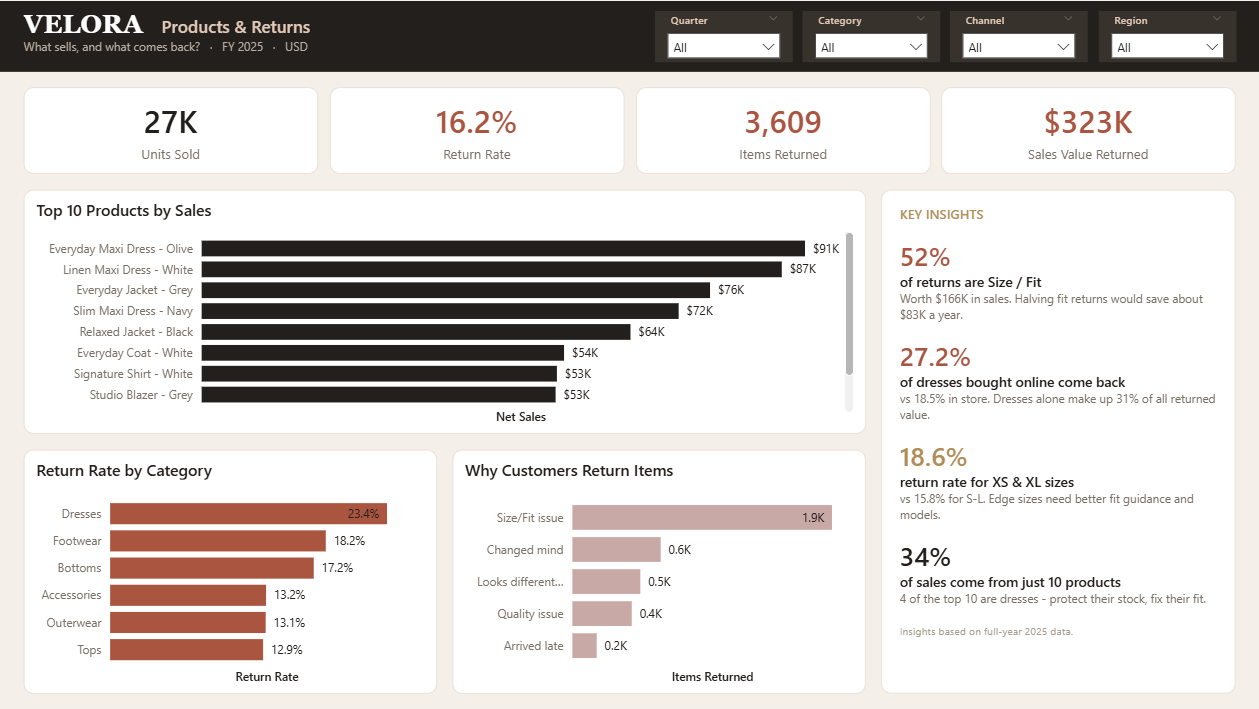

Layout of this report page (visuals, bound fields, positions):
{"tool":"powerbi","page":{"name":"Products & Returns","canvas":[1280,720],"ordinal":1},"visuals":[{"type":"textbox","box":[0,0,1280,72],"z":1000},{"type":"slicer","fields":{"Values":["Calendar.Quarter"]},"box":[666,10,140,52],"z":2000},{"type":"slicer","fields":{"Values":["products.category"]},"box":[816,10,140,52],"z":3000},{"type":"slicer","fields":{"Values":["sales.channel"]},"box":[966,10,140,52],"z":4000},{"type":"slicer","fields":{"Values":["customers.region"]},"box":[1116,10,140,52],"z":5000},{"type":"card","fields":{"Values":["sales.Units Sold"]},"box":[24,88,299,88],"z":6000},{"type":"card","fields":{"Values":["sales.Return Rate %"]},"box":[335,88,299,88],"z":7000},{"type":"card","fields":{"Values":["sales.Returned Items"]},"box":[646,88,299,88],"z":8000},{"type":"card","fields":{"Values":["sales.Returned Sales"]},"box":[957,88,299,88],"z":9000},{"type":"clusteredBarChart","title":"Top 10 Products by Sales","fields":{"Category":["products.product_name"],"Y":["sales.Top 10 Product Sales"]},"box":[24,192,856,248],"z":10000},{"type":"clusteredBarChart","title":"Return Rate by Category","fields":{"Category":["products.category"],"Y":["sales.Return Rate %"]},"box":[24,456,420,248],"z":11000},{"type":"clusteredBarChart","title":"Why Customers Return Items","fields":{"Category":["sales.return_reason"],"Y":["sales.Returned Items"]},"box":[460,456,420,248],"z":12000},{"type":"textbox","box":[896,192,360,512],"z":13000}]}

Visuals, with their boxes in screenshot pixels (x1, y1, x2, y2), scaled from the page's 1280x720 canvas onto the 1259x709 screenshot:
textbox: box=[0, 0, 1258, 71]
slicer - Calendar.Quarter: box=[655, 10, 793, 61]
slicer - products.category: box=[803, 10, 940, 61]
slicer - sales.channel: box=[950, 10, 1088, 61]
slicer - customers.region: box=[1098, 10, 1235, 61]
card - sales.Units Sold: box=[24, 87, 318, 173]
card - sales.Return Rate %: box=[330, 87, 624, 173]
card - sales.Returned Items: box=[635, 87, 929, 173]
card - sales.Returned Sales: box=[941, 87, 1235, 173]
"Top 10 Products by Sales" clusteredBarChart: box=[24, 189, 866, 433]
"Return Rate by Category" clusteredBarChart: box=[24, 449, 437, 693]
"Why Customers Return Items" clusteredBarChart: box=[452, 449, 866, 693]
textbox: box=[881, 189, 1235, 693]
